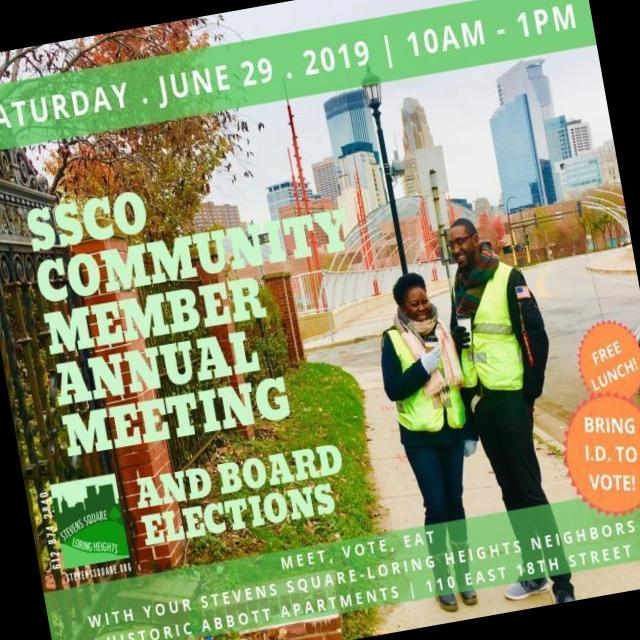safety_vest: (455, 261, 532, 396), (378, 323, 454, 438)
work_boots: (498, 558, 554, 606)
